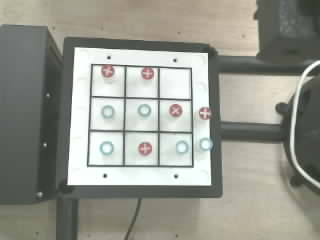blue circle: (100, 141, 113, 155), (101, 105, 114, 118), (138, 104, 151, 116), (176, 140, 188, 153), (200, 138, 212, 150)
board: (67, 46, 213, 186)
cells: (89, 132, 122, 165), (125, 133, 157, 165), (160, 133, 192, 165), (92, 65, 124, 96), (91, 98, 123, 129), (125, 99, 157, 130), (160, 100, 191, 131), (159, 68, 190, 98), (126, 67, 157, 97)
grid: (87, 64, 193, 167)
red cross: (169, 104, 183, 117), (138, 142, 151, 155), (101, 65, 114, 77), (141, 67, 153, 79), (199, 107, 211, 119)
